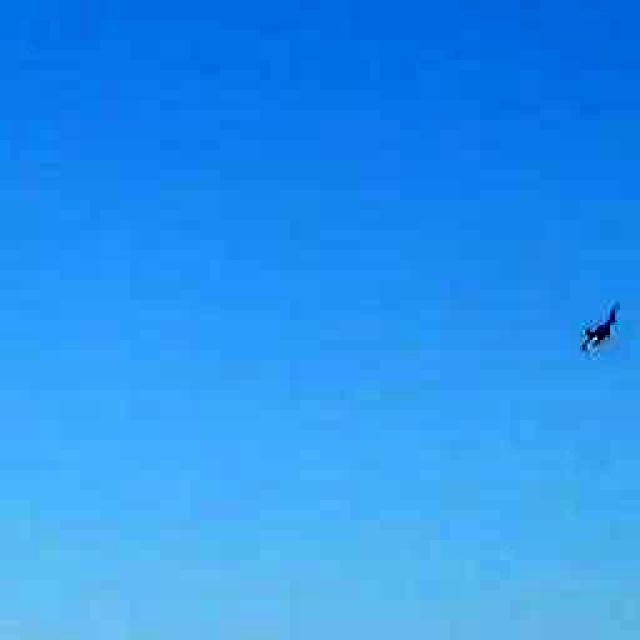bird: (564, 279, 631, 381)
